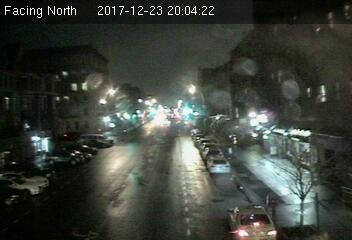car: (225, 201, 278, 240), (208, 157, 229, 173)
